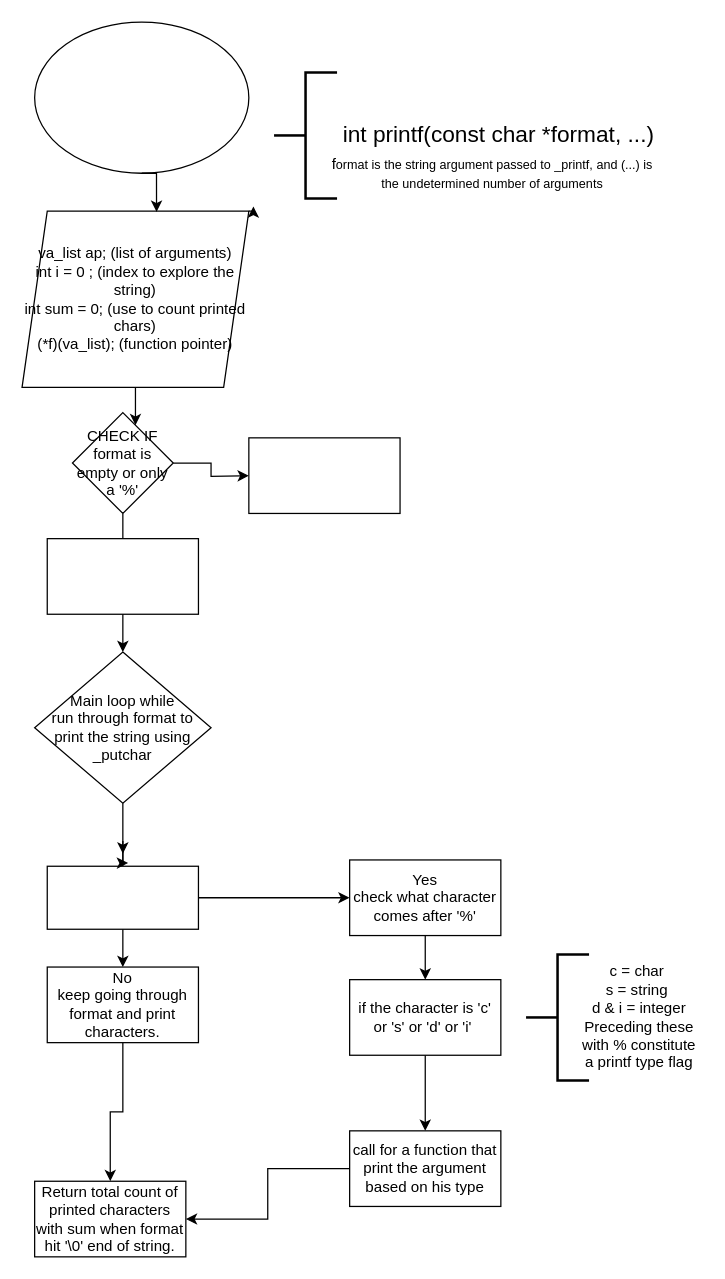
Some shapes in this 725 by 1279 pixel diagram are drawn without their labels. Each missing label, with the box of its shape:
CHECK IF we find a '%': (46, 865, 198, 929)
No format is not empty va_start;(start reading into the argument list): (46, 537, 198, 614)
START: (33, 21, 249, 173)
YES error case return (-1);: (248, 437, 400, 513)
